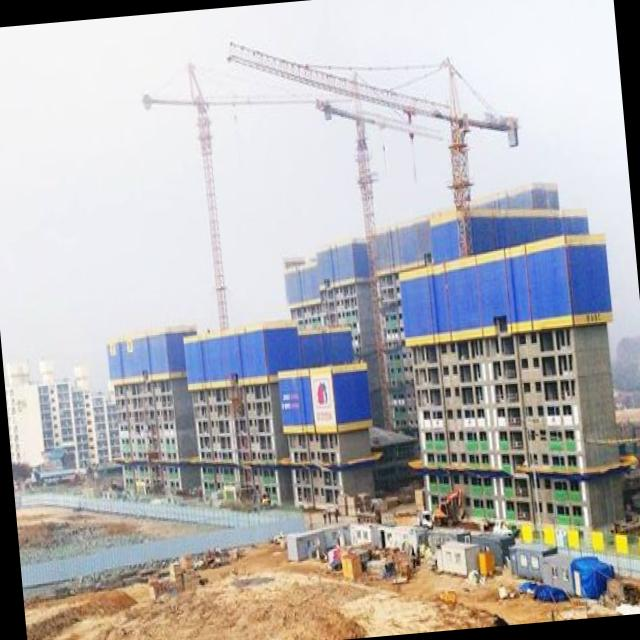red-sand: (24, 545, 622, 640)
